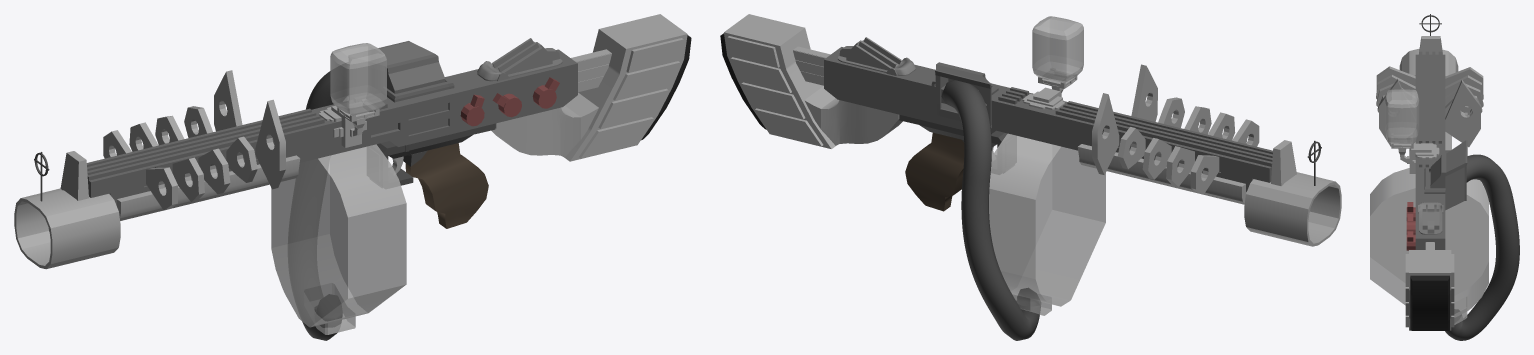
The model's file is GooGun_UVd.fbx.
3 views of the same model, side by side, from view 1: azimuth 30°, elevation 25°; view 2: azimuth 150°, elevation 25°; view 3: azimuth 270°, elevation 25° (orthographic). The views are drawn at different scales.
Parts seen in each view (by area): view 1: drum, longPiece, butt, muzzleBooled_3, grip, buttStock, catalystVial, longRay (×2), pump, backScope_booled, ray3 (×2), ray1 (×2) (+10 smaller); view 2: drum, longPiece, tube, butt, muzzleBooled_3, grip, buttStock, catalystVial, longRay (×2), pump, backScope_booled, ray3 (×2) (+7 smaller); view 3: drum, longPiece, tube, butt1, butt, catalystVial, longRay (×2), backScope_booled, ray (×2), ray1 (×2), muzzleBooled_3, cattleHolder (+9 smaller).
Boxes of the visible parts, bbox=[...] form: drum: bbox=[271, 144, 406, 334]; longPiece: bbox=[87, 41, 577, 205]; butt: bbox=[564, 14, 687, 161]; muzzleBooled_3: bbox=[14, 188, 120, 269]; grip: bbox=[405, 143, 488, 228]; buttStock: bbox=[491, 92, 598, 157]; catalystVial: bbox=[330, 43, 386, 115]; longRay (×2): bbox=[214, 70, 285, 189]; pump: bbox=[117, 155, 300, 220]; backScope_booled: bbox=[477, 38, 562, 81]; ray3 (×2): bbox=[184, 106, 257, 182]; ray1 (×2): bbox=[129, 122, 204, 202]; drum: bbox=[989, 133, 1105, 315]; longPiece: bbox=[824, 47, 1272, 191]; tube: bbox=[941, 80, 1040, 340]; butt: bbox=[724, 14, 835, 148]; muzzleBooled_3: bbox=[1244, 172, 1341, 246]; grip: bbox=[905, 132, 964, 211]; buttStock: bbox=[804, 86, 902, 145]; catalystVial: bbox=[1032, 16, 1083, 82]; longRay (×2): bbox=[1092, 64, 1157, 174]; pump: bbox=[1077, 144, 1246, 204]; backScope_booled: bbox=[837, 37, 915, 75]; ray3 (×2): bbox=[1117, 97, 1184, 169]; drum: bbox=[1370, 168, 1488, 324]; longPiece: bbox=[1415, 51, 1467, 249]; tube: bbox=[1445, 154, 1519, 340]; butt1: bbox=[1410, 275, 1449, 330]; butt: bbox=[1405, 250, 1454, 330]; catalystVial: bbox=[1385, 89, 1419, 143]; longRay (×2): bbox=[1379, 79, 1480, 147]; backScope_booled: bbox=[1418, 202, 1443, 234]; ray (×2): bbox=[1376, 66, 1483, 91]; ray1 (×2): bbox=[1376, 74, 1483, 99]; muzzleBooled_3: bbox=[1399, 48, 1458, 76]; cattleHolder: bbox=[1407, 143, 1439, 173].
Bounding box in the file's own units: 1.69 × 0.788 × 0.4371.
